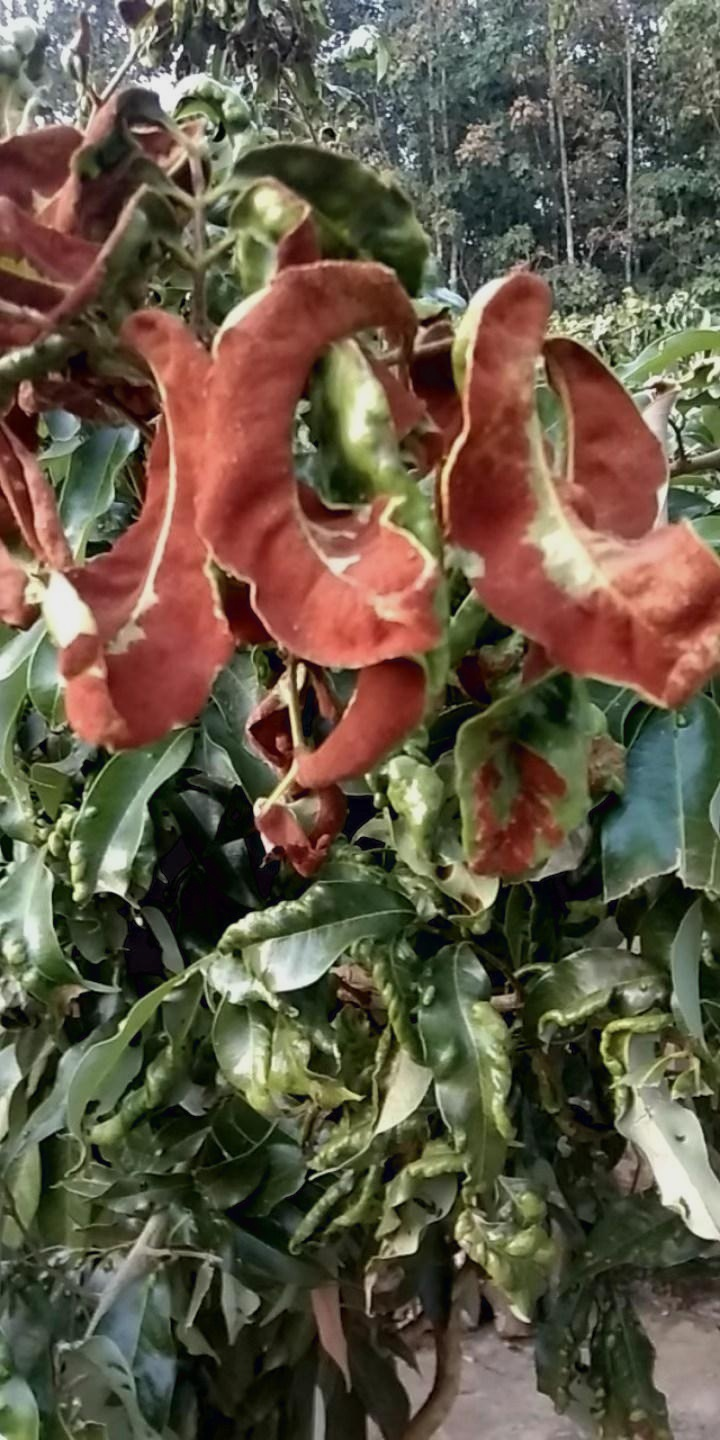Stink_Bug: (208, 561, 473, 927), (250, 1180, 469, 1338), (229, 186, 471, 268)
